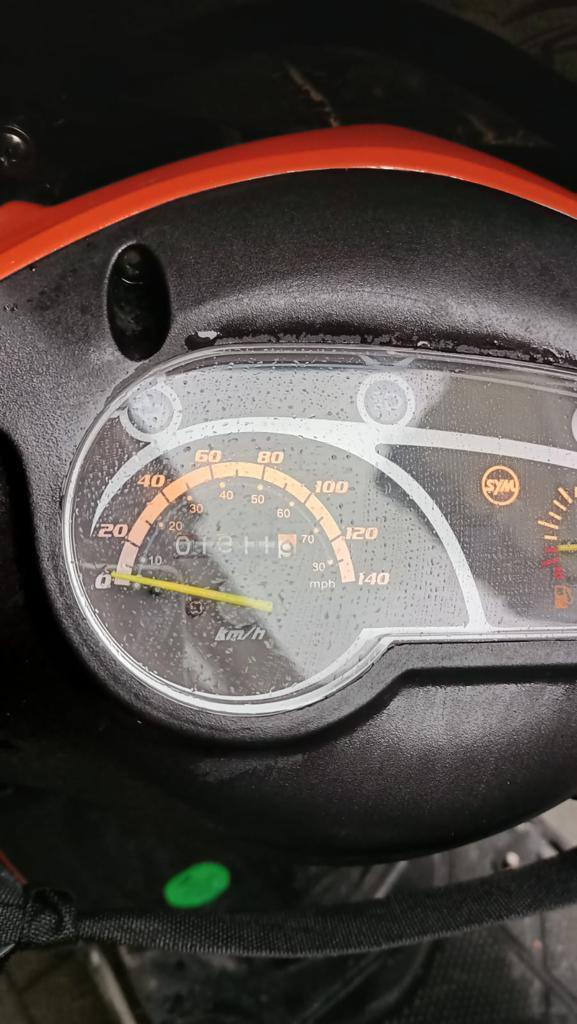0: (174, 533, 190, 558)
1: (199, 534, 209, 560), (241, 533, 250, 561), (261, 533, 270, 560)
3: (215, 533, 234, 559)
9: (278, 537, 296, 563)
odometer: (165, 531, 301, 564)
